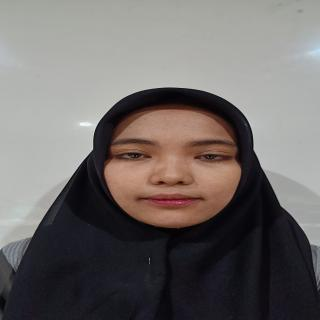Netral: (101, 100, 251, 237)
